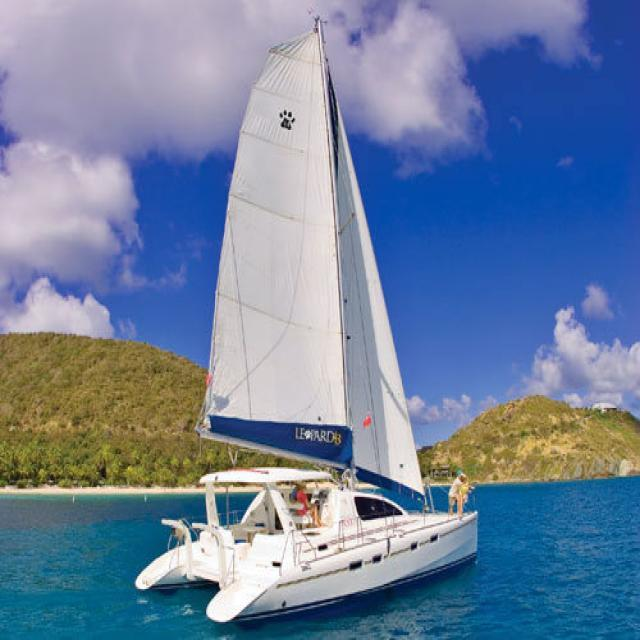Ship: (127, 22, 480, 628)
